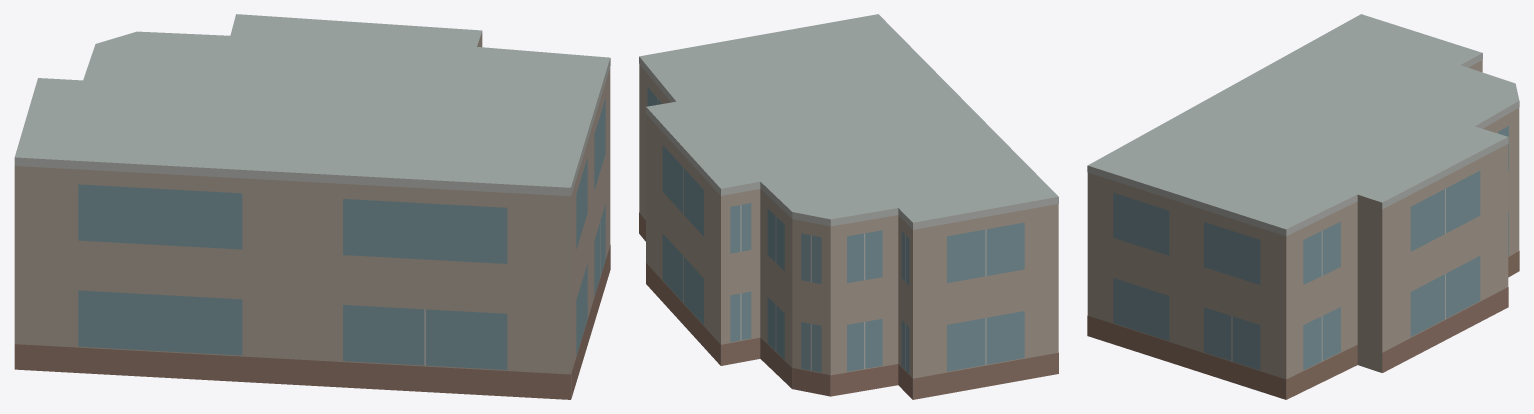
The model's file is survey-upis-32661768.glb.
The picture shows the model from 3 angles, left to right: view 1: azimuth 30°, elevation 25°; view 2: azimuth 150°, elevation 25°; view 3: azimuth 270°, elevation 25°; orthographic projection. The views are drawn at different scales.
Visible parts, largest first — view 1: survey-upis-32661768.tmp; view 2: survey-upis-32661768.tmp; view 3: survey-upis-32661768.tmp.
Part boxes in pixels (x1=…): survey-upis-32661768.tmp: x1=14, y1=14, x2=610, y2=399; survey-upis-32661768.tmp: x1=639, y1=14, x2=1058, y2=399; survey-upis-32661768.tmp: x1=1087, y1=14, x2=1519, y2=399.
Size of the model in its own units: 16.54 by 6.1 by 14.02.
